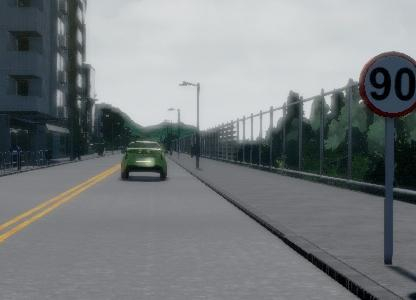Speed_90: (358, 50, 416, 120)
